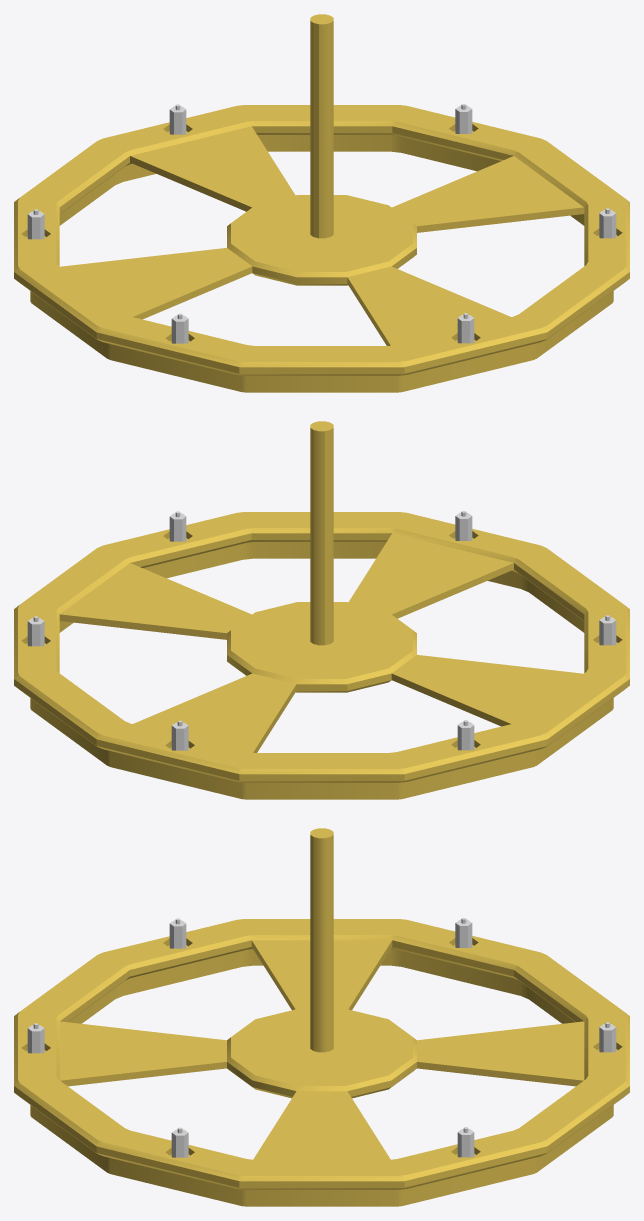
File: Lustre Better.fbx
3 renders of one model, top to bottom at view 1: azimuth 30°, elevation 25°; view 2: azimuth 150°, elevation 25°; view 3: azimuth 270°, elevation 25°, orthographic.
Parts seen in each view (by area): view 1: Circle; view 2: Circle; view 3: Circle.
Part boxes in pixels (bbox=[...]): Circle: bbox=[14, 14, 629, 392]; Circle: bbox=[14, 421, 629, 799]; Circle: bbox=[14, 828, 629, 1206].
Size of the model in its own units: 680 by 304 by 680.
